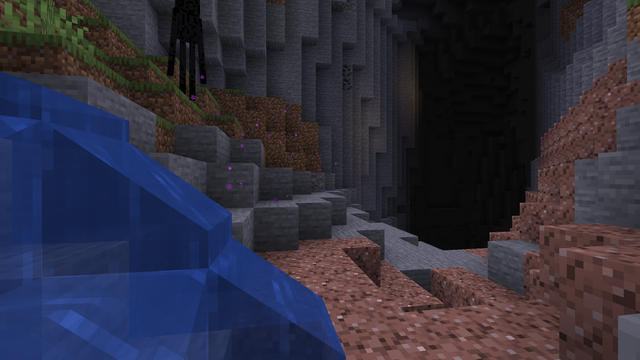endermens: (172, 0, 201, 100)
